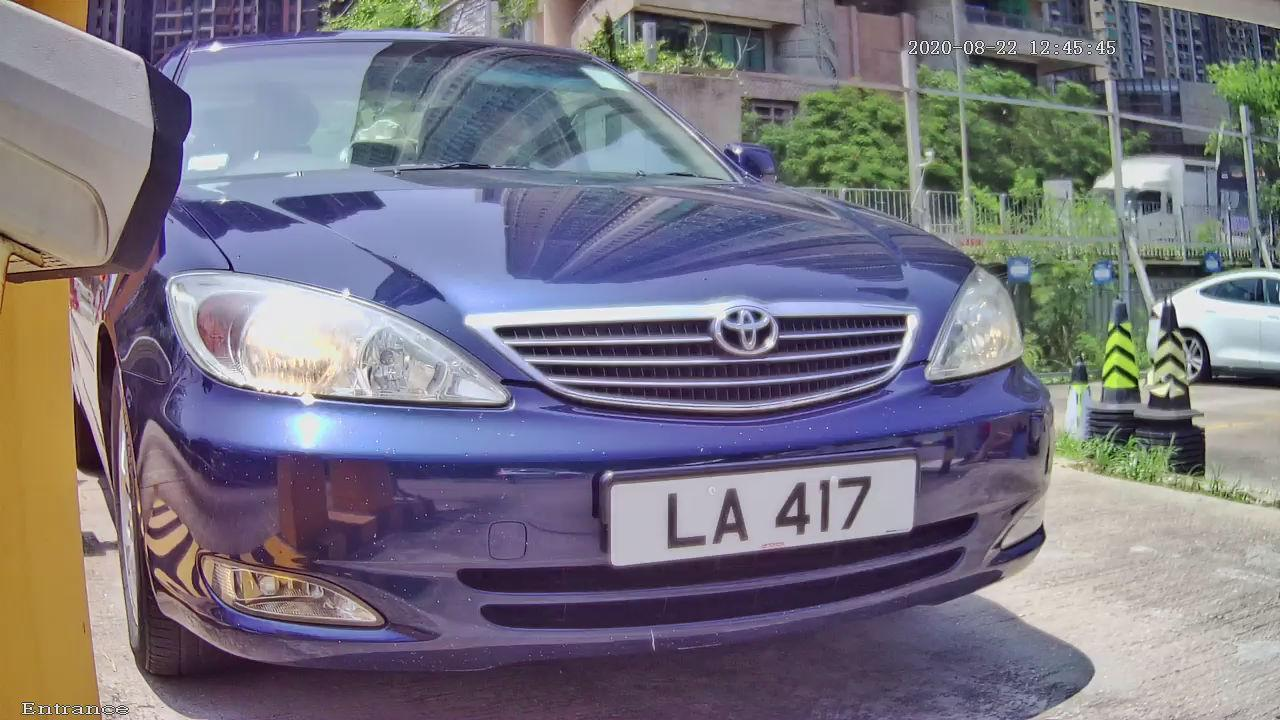Car: (18, 4, 1138, 720)
License Plate: (581, 420, 939, 583)
